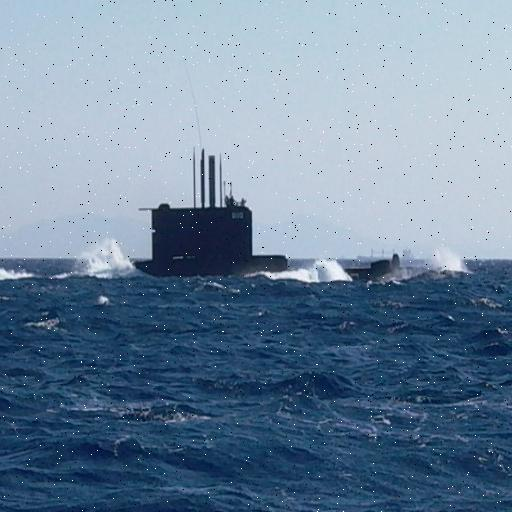submarine: (61, 210, 415, 282)
